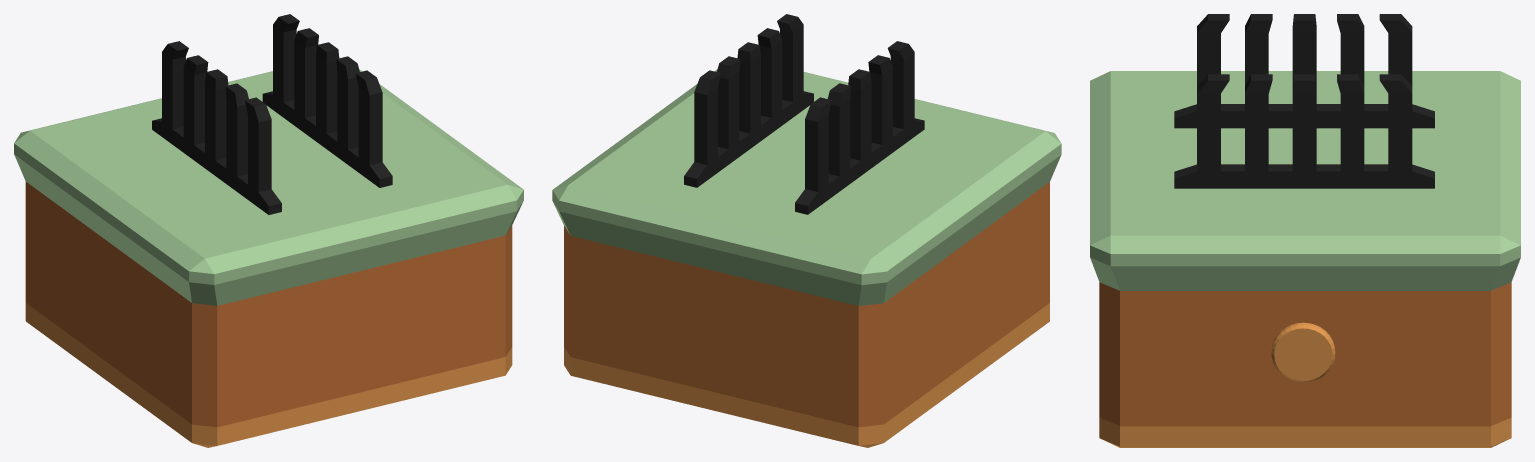
File: wooden-table.fbx
The picture shows the model from 3 angles, left to right: view 1: azimuth 30°, elevation 25°; view 2: azimuth 150°, elevation 25°; view 3: azimuth 270°, elevation 25°; orthographic projection. The views are drawn at different scales.
Visible parts, largest first — view 1: table, Cube.001, Cube; view 2: table, Cube, Cube.001; view 3: table, Cube.001, Cube.
Part boxes in pixels (x1,y1,x2,y2): table: (14,69,523,447); Cube.001: (262,14,392,187); Cube: (152,41,281,214); table: (552,69,1061,447); Cube: (795,41,924,214); Cube.001: (684,14,813,187); table: (1090,71,1520,447); Cube.001: (1174,74,1434,188); Cube: (1174,14,1434,128).
Size of the model in its own units: 1 by 0.8294 by 1.
